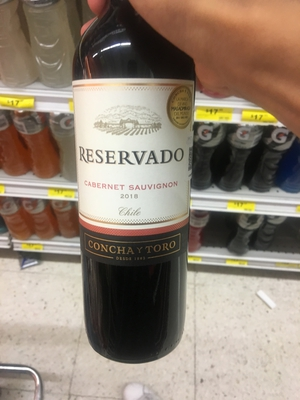reservado cabernet sauvignon: (67, 6, 202, 365)
